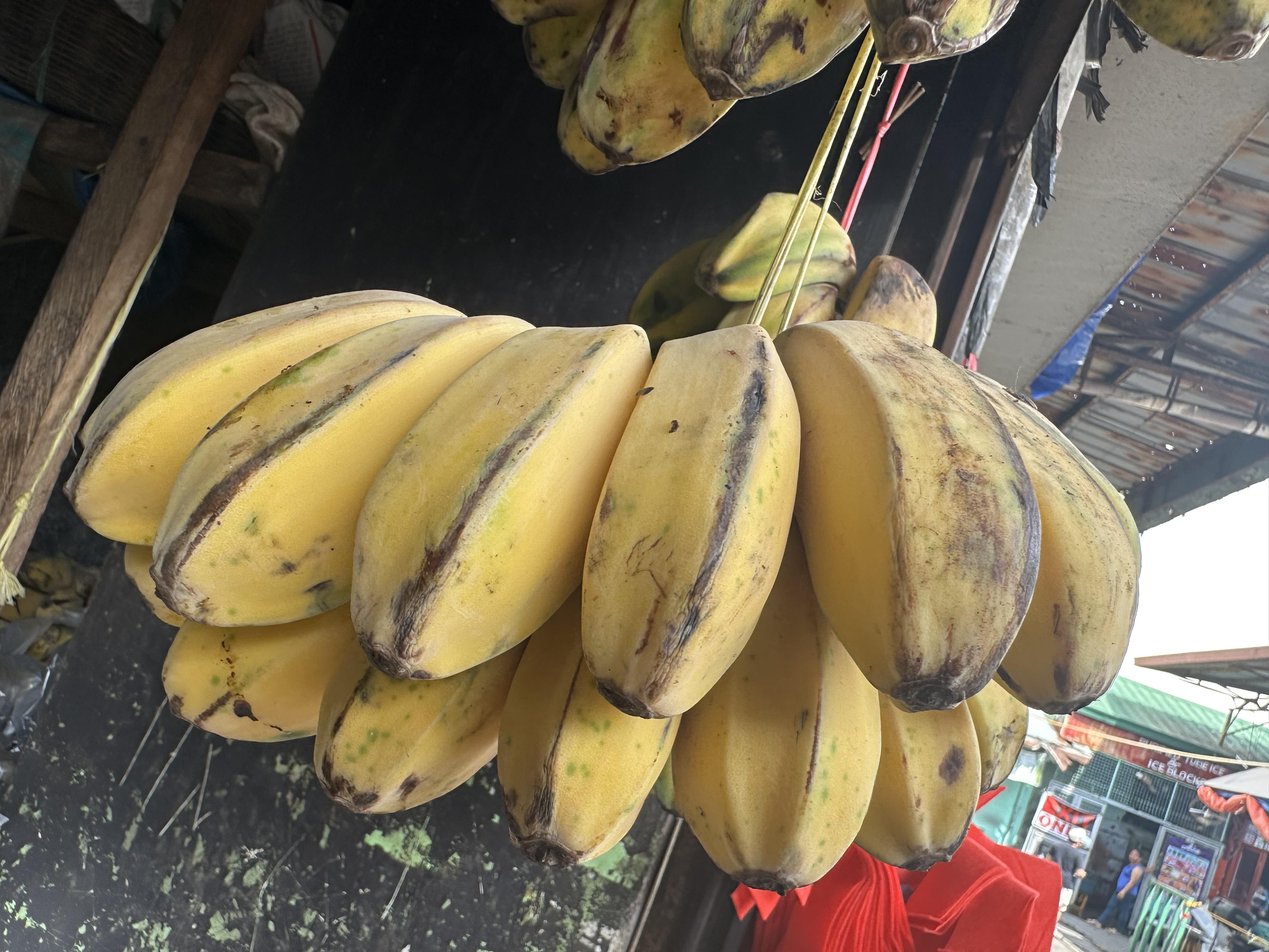ripe: (62, 288, 1143, 892)
underripe: (485, 0, 1023, 180), (626, 194, 937, 359)
